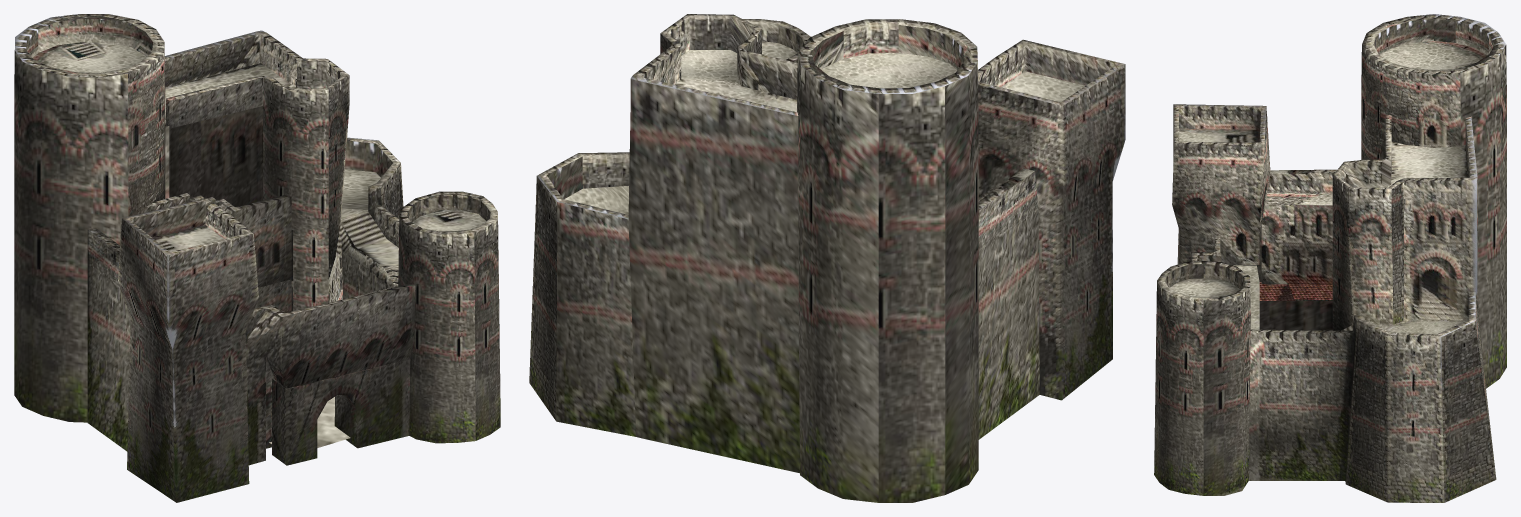
The model's file is castle.glb.
3 views of the same model, side by side, from view 1: azimuth 30°, elevation 25°; view 2: azimuth 150°, elevation 25°; view 3: azimuth 270°, elevation 25° (orthographic). The views are drawn at different scales.
Parts seen in each view (by area): view 1: castle1; view 2: castle1; view 3: castle1.
Part boxes in pixels (x1=…): castle1: x1=14, y1=14, x2=500, y2=502; castle1: x1=529, y1=14, x2=1125, y2=502; castle1: x1=1154, y1=14, x2=1506, y2=502.
Bounding box in the file's own units: 13.26 × 11.96 × 11.83.
1 material, 1 textured.
